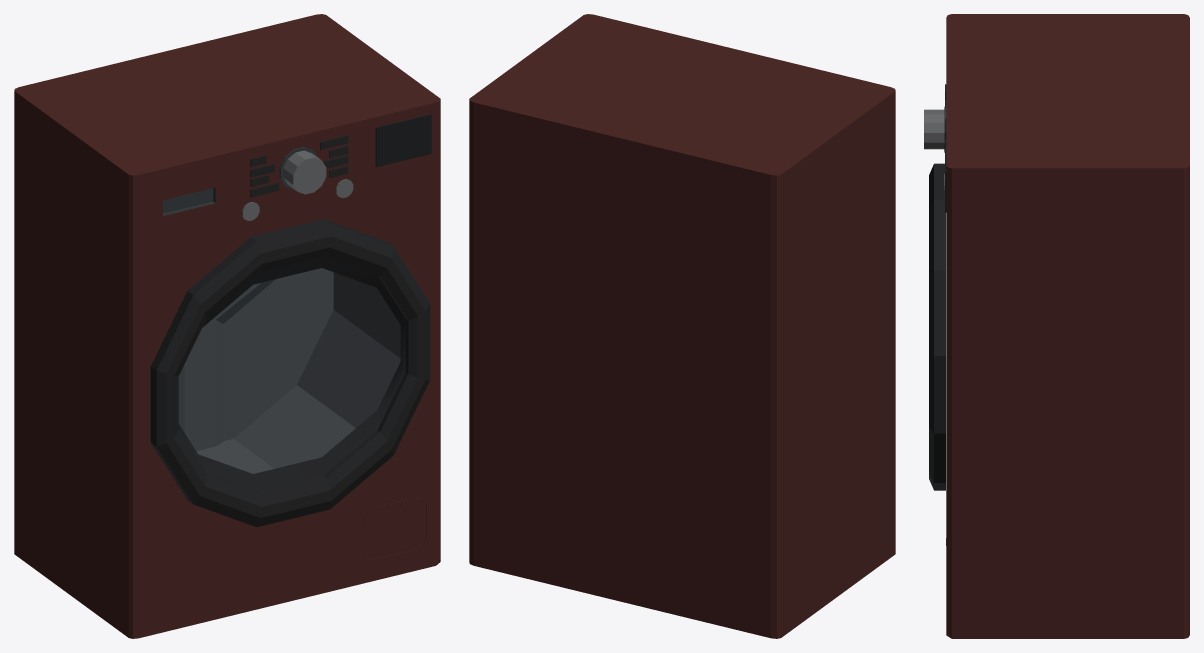
The model's file is modifiedwashingmachine.fbx.
3 renders of one model, left to right at view 1: azimuth 30°, elevation 25°; view 2: azimuth 150°, elevation 25°; view 3: azimuth 270°, elevation 25°, orthographic.
Visible parts, largest first — view 1: washingmachine_01_C, Doorforwashingmachine_01_C, shelfforwashingmachine_01_C, hatchforwashingmachine_01_C, Switchforwashingmachine_03_C.001; view 2: washingmachine_01_C; view 3: washingmachine_01_C, Doorforwashingmachine_01_C, Switchforwashingmachine_03_C.001.
Part boxes in pixels (<box>): washingmachine_01_C: <box>14,14,440,638</box>; Doorforwashingmachine_01_C: <box>150,219,430,527</box>; shelfforwashingmachine_01_C: <box>146,163,232,240</box>; hatchforwashingmachine_01_C: <box>363,497,426,558</box>; Switchforwashingmachine_03_C.001: <box>283,150,326,194</box>; washingmachine_01_C: <box>469,14,895,638</box>; washingmachine_01_C: <box>944,14,1189,638</box>; Doorforwashingmachine_01_C: <box>929,163,945,490</box>; Switchforwashingmachine_03_C.001: <box>924,109,944,149</box>.
Size of the model in its own units: 60 by 85.22 by 43.63.
